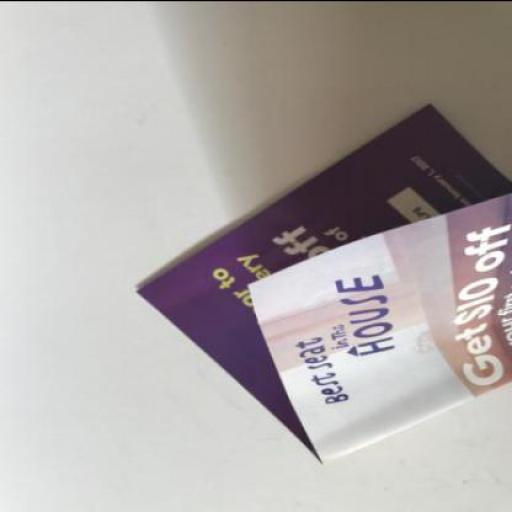paper: (134, 104, 511, 466)
